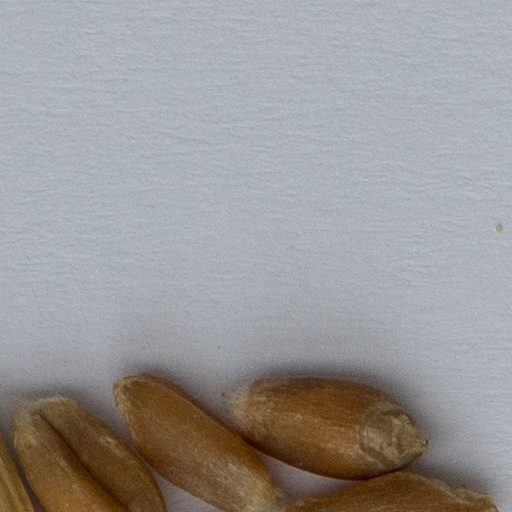Peel-poly: (0, 430, 36, 511)
